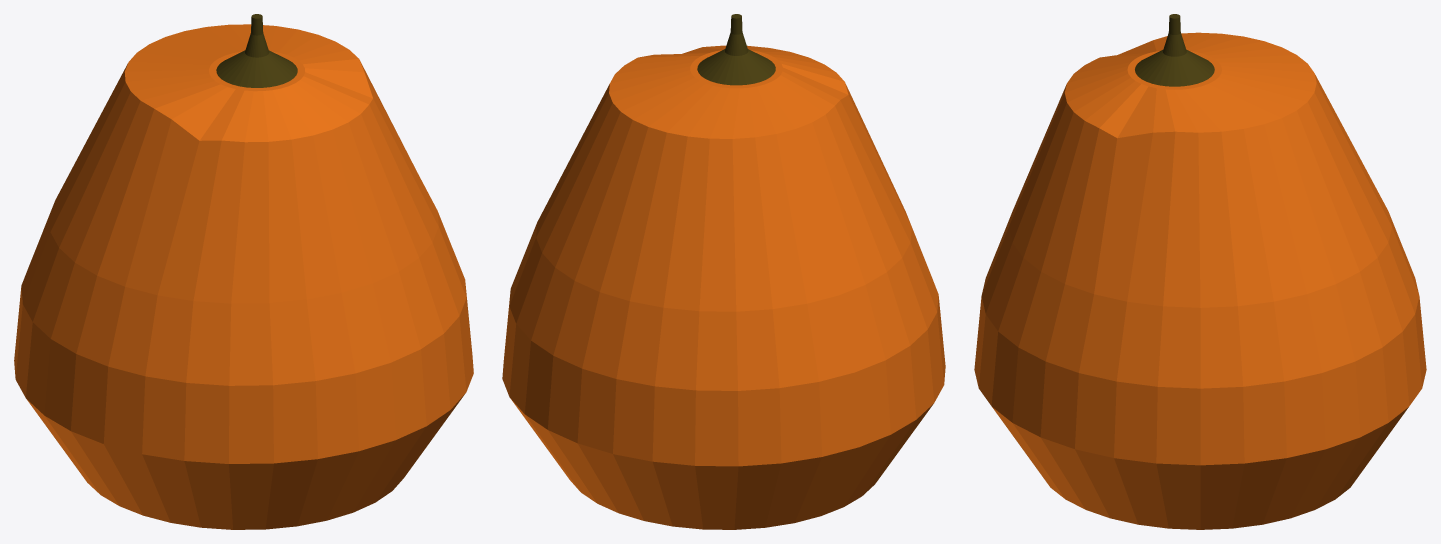
Rendered from pump1.glb.
The picture shows the model from 3 angles, left to right: view 1: azimuth 30°, elevation 25°; view 2: azimuth 150°, elevation 25°; view 3: azimuth 270°, elevation 25°; orthographic projection. The views are drawn at different scales.
Visible parts, largest first — view 1: Цилиндр; view 2: Цилиндр; view 3: Цилиндр.
Boxes of the visible parts, x1,y1,x2,y2 form: Цилиндр: [14, 14, 473, 529]; Цилиндр: [502, 14, 945, 529]; Цилиндр: [974, 14, 1426, 529].
Size of the model in its own units: 31.86 by 34.59 by 31.86.
